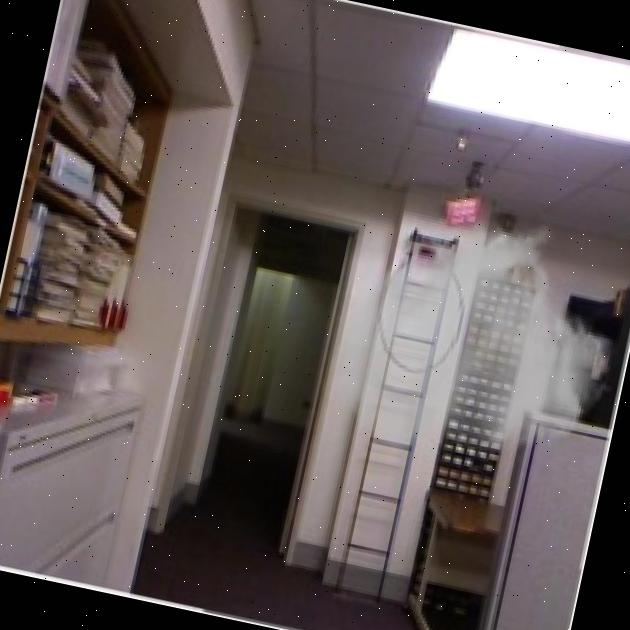smoke: (312, 185, 630, 491)
